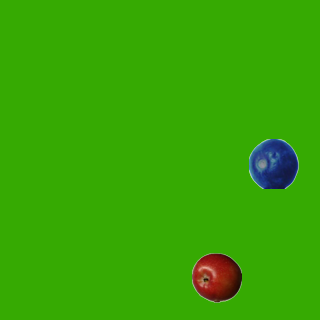Apple Braeburn: (191, 252, 241, 302)
Huckleberry: (248, 138, 298, 188)
